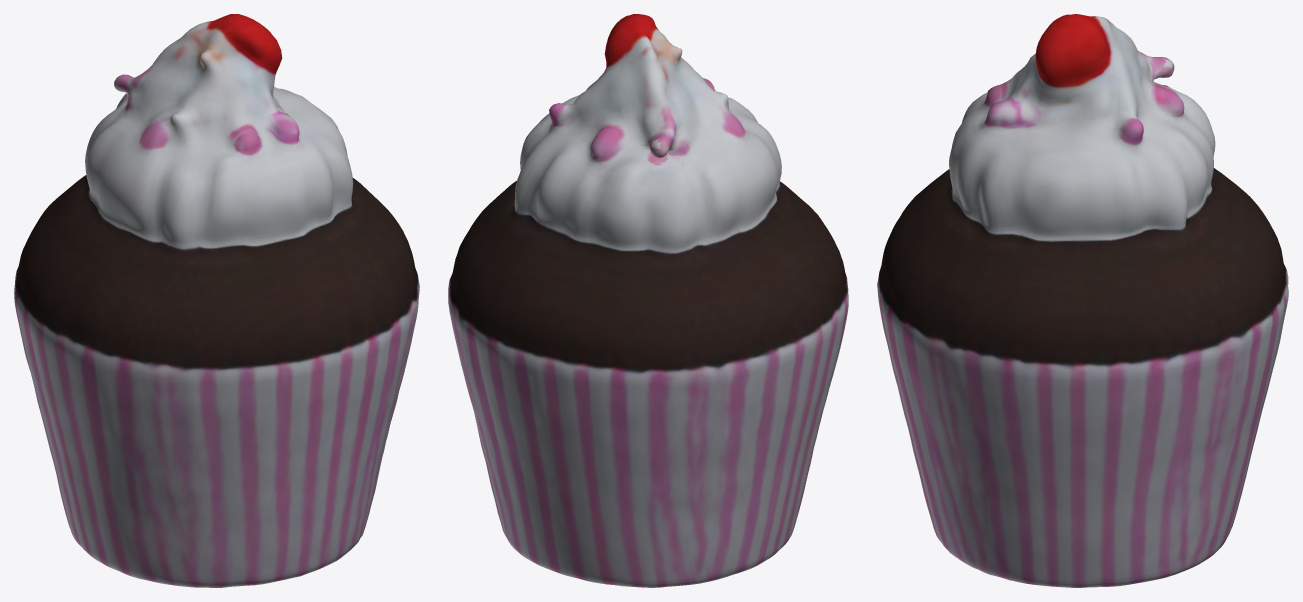
Rendered from ef6b9230c0ee_cupcake__3d_asset_0.fbx.
3 views of the same model, side by side, from view 1: azimuth 30°, elevation 25°; view 2: azimuth 150°, elevation 25°; view 3: azimuth 270°, elevation 25° (orthographic). The views are drawn at different scales.
Parts seen in each view (by area): view 1: mesh; view 2: mesh; view 3: mesh.
Boxes of the visible parts, x1,y1,x2,y2 form: mesh: (14, 14, 419, 587); mesh: (448, 14, 848, 587); mesh: (877, 14, 1288, 587).
Size of the model in its own units: 70.76 by 99.97 by 70.71.
